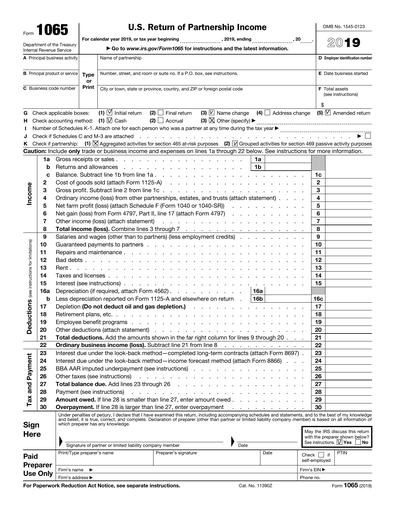filled checkbox: (92, 140, 99, 147), (106, 117, 112, 124), (209, 109, 215, 116), (232, 140, 238, 147), (209, 117, 215, 123), (325, 110, 331, 116), (337, 439, 343, 445), (107, 109, 112, 116)
unfilled checkbox: (157, 117, 164, 124), (365, 133, 371, 139), (355, 439, 361, 445), (318, 452, 324, 458), (158, 109, 163, 116), (265, 110, 270, 116)
